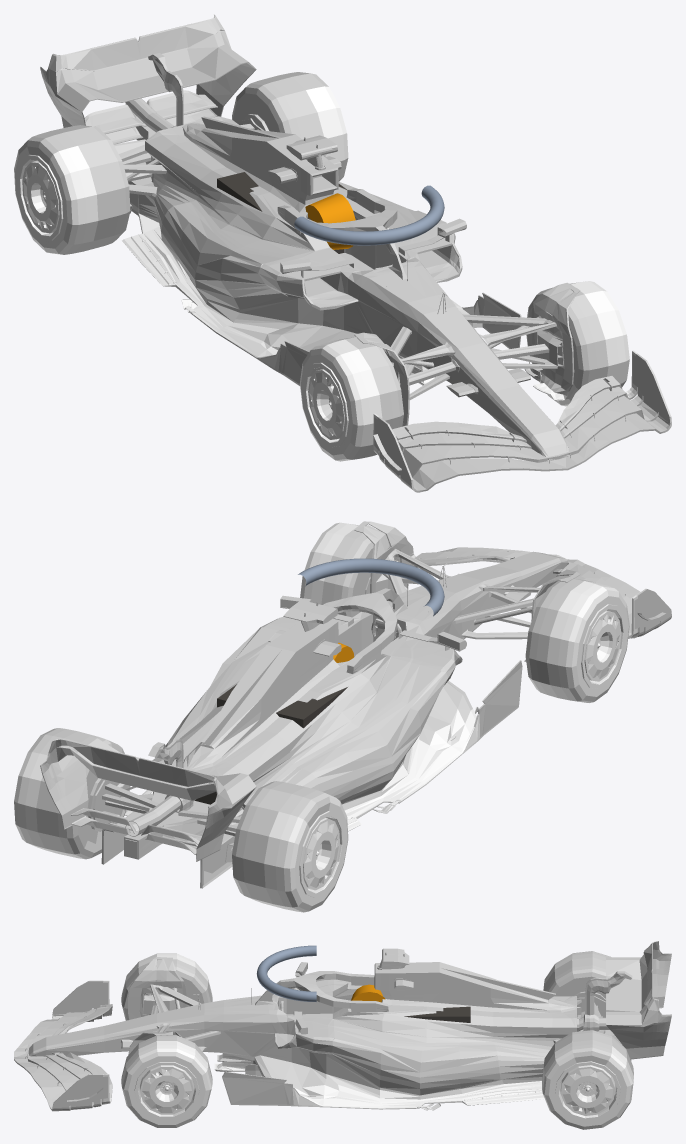
3 views of the same model, one above another, from view 1: azimuth 30°, elevation 25°; view 2: azimuth 150°, elevation 25°; view 3: azimuth 270°, elevation 25° (orthographic). The views are drawn at different scales.
Parts seen in each view (by area): view 1: chassis_monocoque_bodywork, front_wing_assembly, rear_wing_drs_assembly, wheel_front_left, floor_underbody_diffuser, wheel_rear_left, safety_halo_titanium_core, wheel_front_right, wheel_rear_right, turbo_compressor, power_unit_ice_v6; view 2: chassis_monocoque_bodywork, rear_wing_drs_assembly, wheel_front_left, wheel_rear_left, floor_underbody_diffuser, front_wing_assembly, safety_halo_titanium_core, wheel_rear_right, wheel_front_right, power_unit_ice_v6; view 3: chassis_monocoque_bodywork, front_wing_assembly, rear_wing_drs_assembly, wheel_front_right, wheel_rear_right, floor_underbody_diffuser, safety_halo_titanium_core, wheel_front_left, power_unit_ice_v6, turbo_compressor.
Boxes of the visible parts, x1,y1,x2,y2 form: chassis_monocoque_bodywork: (55,80,614,433); front_wing_assembly: (373,353,671,492); rear_wing_drs_assembly: (27,14,328,164); wheel_front_left: (299,339,396,461); floor_underbody_diffuser: (84,202,578,456); wheel_rear_left: (14,141,98,254); safety_halo_titanium_core: (294,185,444,245); wheel_front_right: (569,281,637,397); wheel_rear_right: (306,86,348,181); turbo_compressor: (305,193,355,249); power_unit_ice_v6: (217,172,346,253); chassis_monocoque_bodywork: (36,521,595,888); rear_wing_drs_assembly: (28,728,330,838); wheel_front_left: (547,581,637,702); wheel_rear_left: (264,793,348,912); floor_underbody_diffuser: (38,677,557,908); front_wing_assembly: (408,541,671,638); safety_halo_titanium_core: (298,558,444,616); wheel_rear_right: (14,752,54,852); wheel_front_right: (300,522,358,604); power_unit_ice_v6: (217,684,347,728); chassis_monocoque_bodywork: (103,948,666,1104); front_wing_assembly: (14,980,108,1111); rear_wing_drs_assembly: (572,941,671,1065); wheel_front_right: (103,1041,212,1127); wheel_rear_right: (542,1042,633,1129); floor_underbody_diffuser: (214,1062,544,1110); safety_halo_titanium_core: (256,945,316,1001); wheel_front_left: (102,953,212,1016); power_unit_ice_v6: (404,1006,470,1022); turbo_compressor: (351,984,385,1002).
Bounding box in the file's own units: 1.39 × 0.8132 × 3.74.
